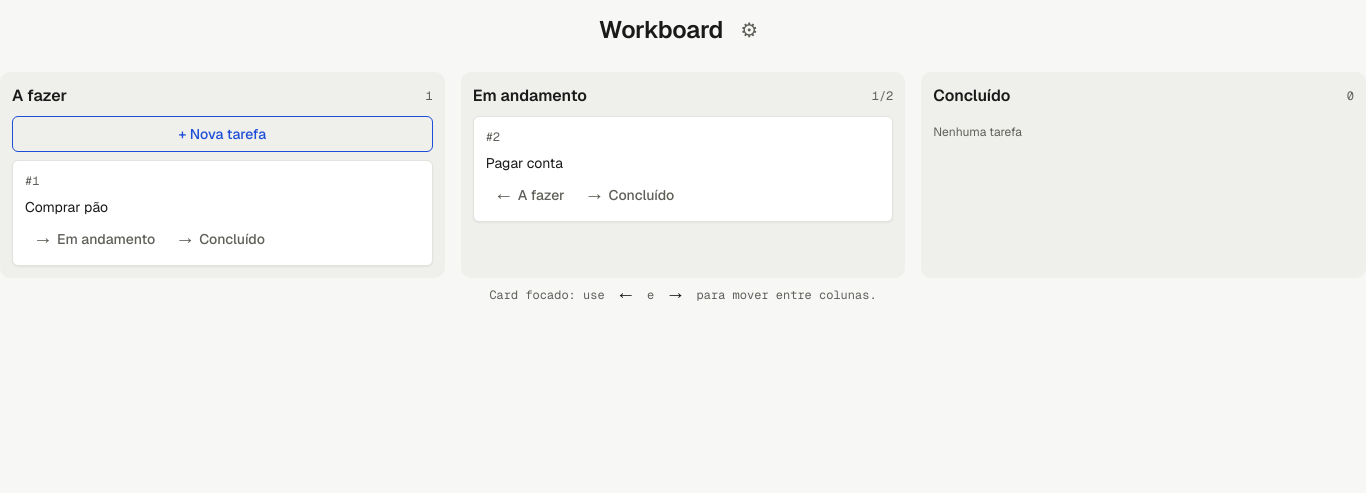
Test: BoardView › tells the user when the API cannot be reached
This screenshot has width=1366, height=493.
Click the button "+ Nova tarefa". click: click(222, 134)
box: x1=12 y1=116 x2=433 y2=152
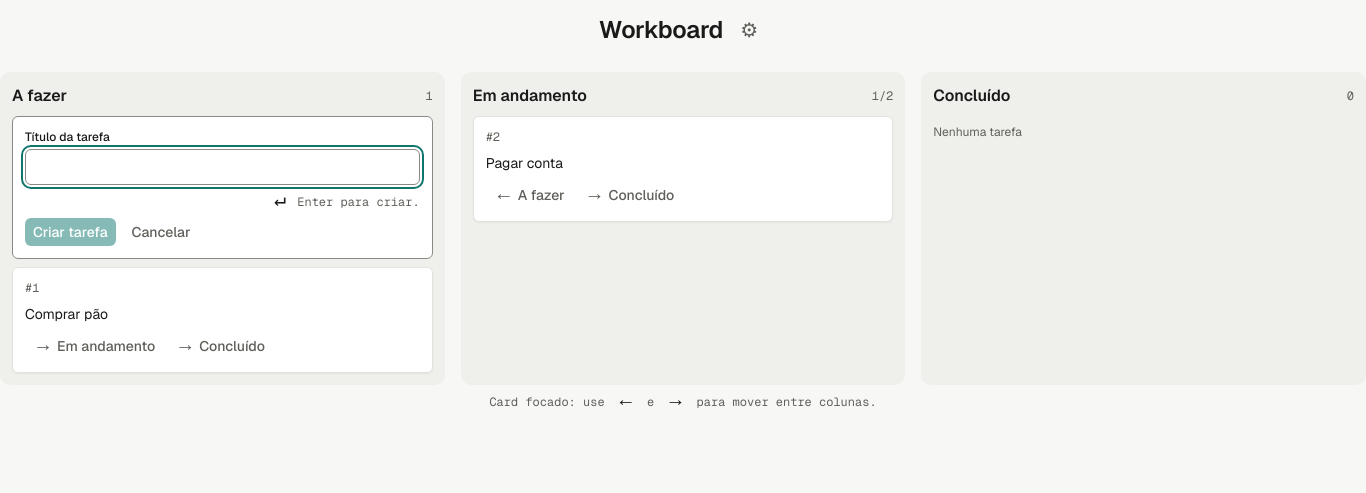
Type "Nova" into the field labelled "Título da tarefa". click: (222, 167)
box: x1=25 y1=149 x2=420 y2=185
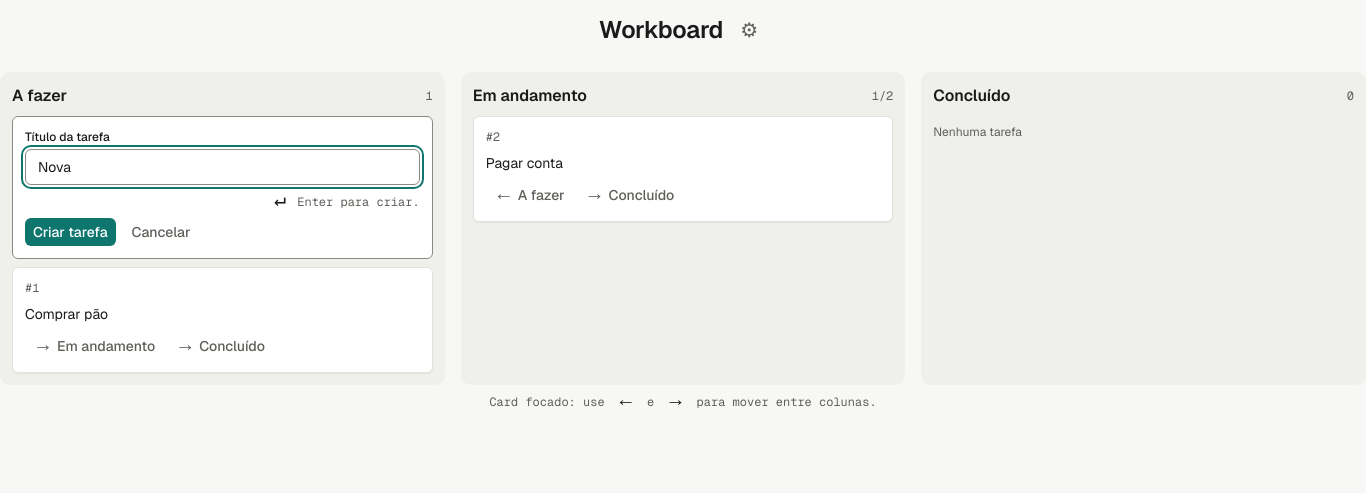
Click the button "Criar tarefa". click: click(70, 232)
box: x1=25 y1=218 x2=116 y2=246
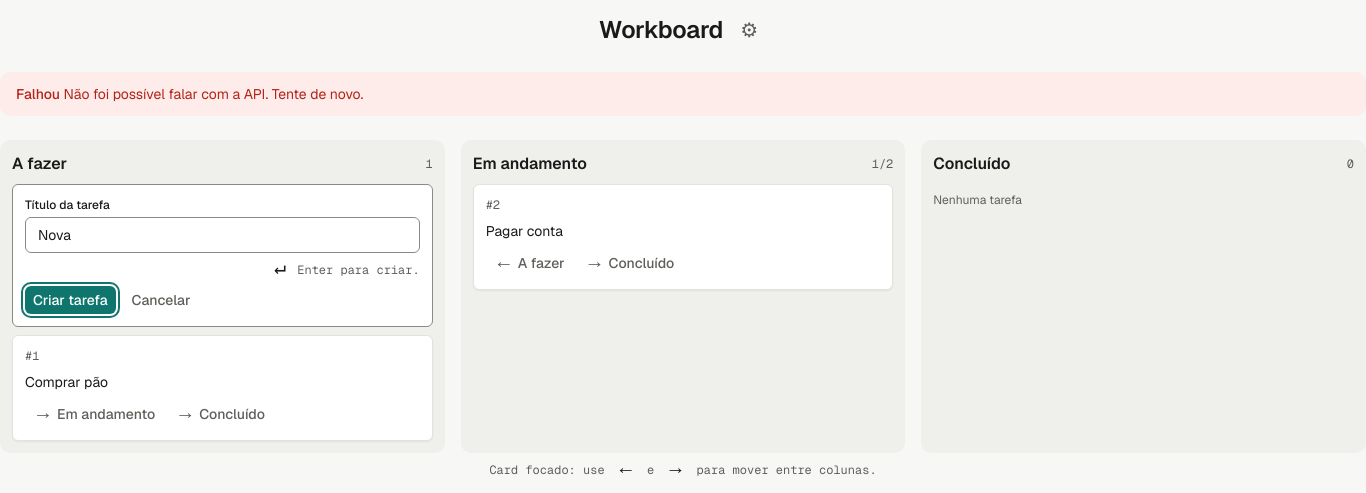
Now the message shows "Não foi possível falar com a API. Tente de novo.", box x1=64 y1=85 x2=363 y2=103
